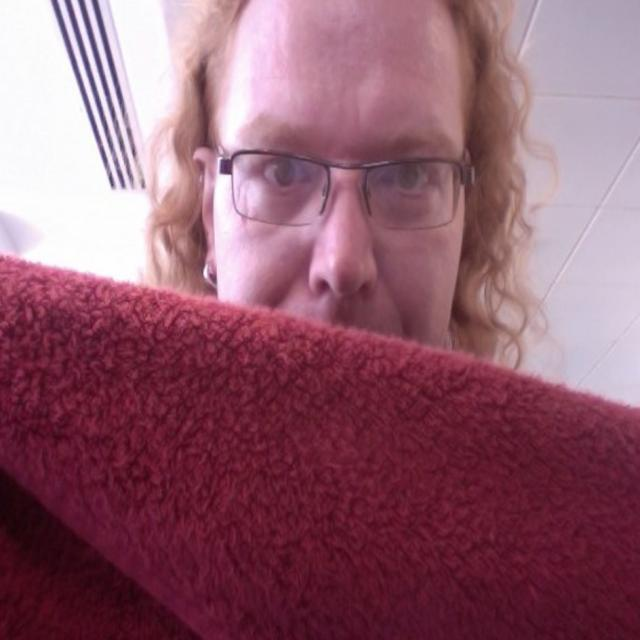Glasses: (207, 139, 479, 231)
